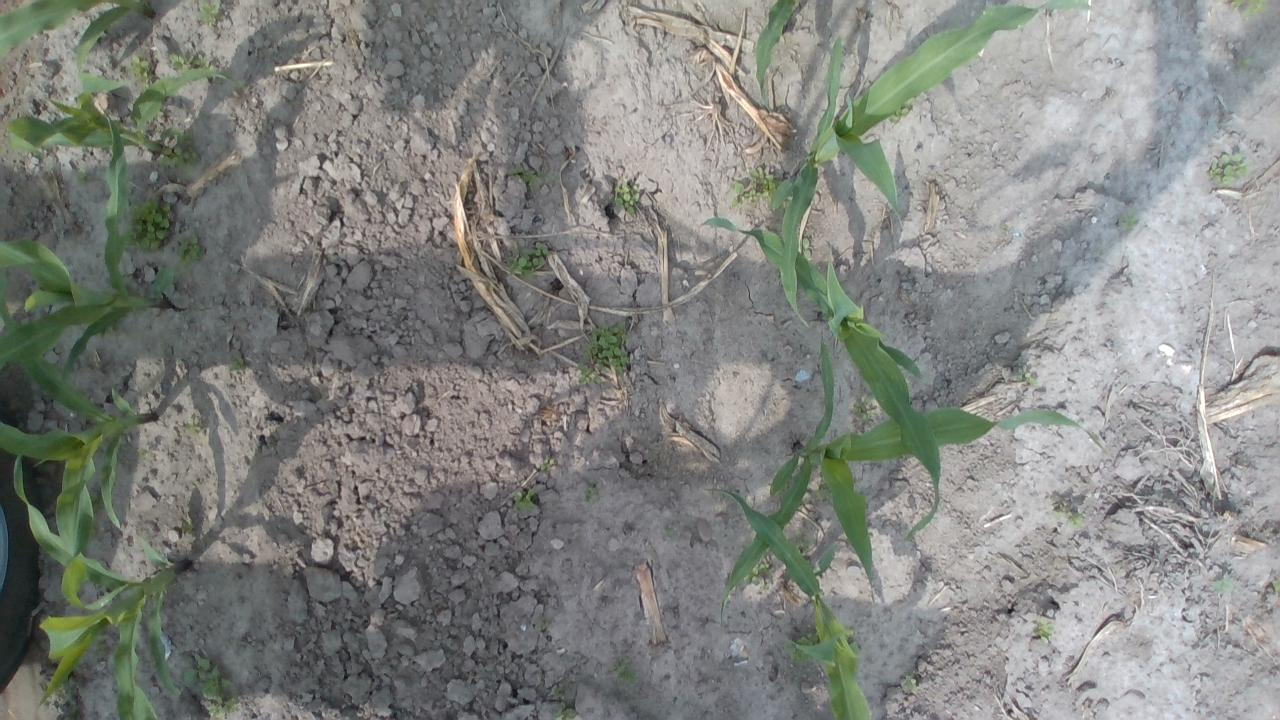Maize: (716, 328, 1107, 622), (776, 0, 1093, 325), (696, 216, 945, 542), (0, 273, 174, 568), (0, 98, 172, 390), (10, 447, 189, 720), (699, 481, 872, 720), (7, 67, 249, 160), (0, 0, 156, 69), (754, 0, 804, 118)
Weeds: (572, 320, 630, 384), (181, 654, 240, 714), (120, 198, 172, 252), (156, 124, 204, 168), (730, 167, 774, 209), (504, 240, 548, 276), (1209, 151, 1250, 186), (175, 233, 207, 272), (39, 676, 75, 704), (608, 654, 638, 686), (612, 182, 640, 216), (887, 96, 921, 123), (128, 53, 153, 86), (742, 559, 772, 586), (850, 394, 876, 424), (1052, 506, 1084, 529), (196, 0, 223, 27), (512, 486, 538, 514), (98, 314, 128, 336), (511, 165, 537, 189), (1230, 0, 1266, 17), (792, 527, 814, 553), (168, 52, 194, 72), (1034, 618, 1052, 644), (225, 350, 245, 371), (790, 647, 814, 664), (816, 481, 832, 505), (1118, 210, 1137, 229), (186, 416, 204, 436), (92, 634, 107, 658), (796, 631, 820, 646), (796, 238, 812, 260), (1017, 368, 1037, 385), (193, 54, 214, 70), (1213, 577, 1232, 594), (552, 707, 576, 720), (72, 168, 89, 185), (902, 676, 919, 692), (64, 703, 80, 720), (1239, 56, 1254, 72), (582, 487, 594, 505), (544, 458, 556, 470), (1274, 578, 1280, 592)
